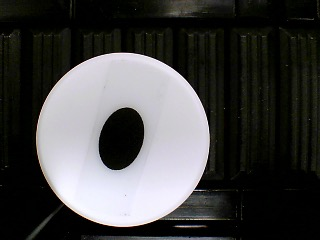BOHOEL: (35, 51, 211, 228)
